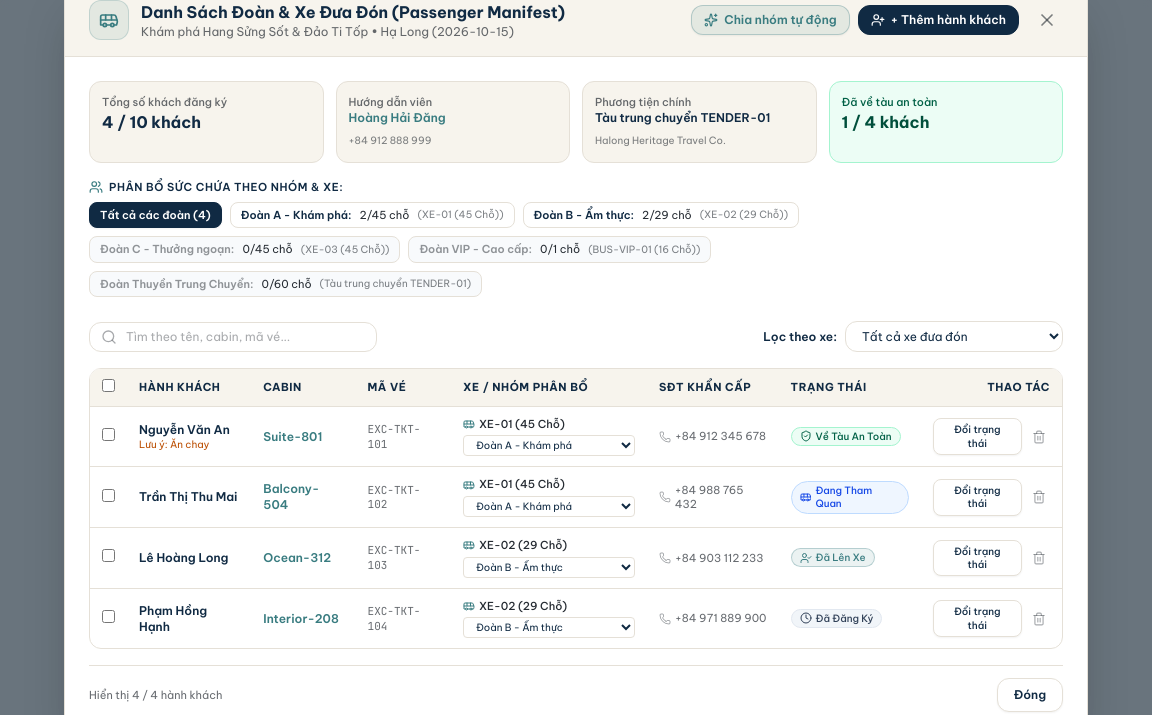
Test case: ExcursionGroupAssignment Tests (KAN-181) › Test Group Capacity and Assignment Errors (KAN-184) › rejects bulk assignment when selected passengers exceed available seats in target group
This screenshot has width=1152, height=715.
# Select 2 passengers
Click the checkbox named "Chọn Nguyễn Văn An": [108, 435] box [102,428,115,441]
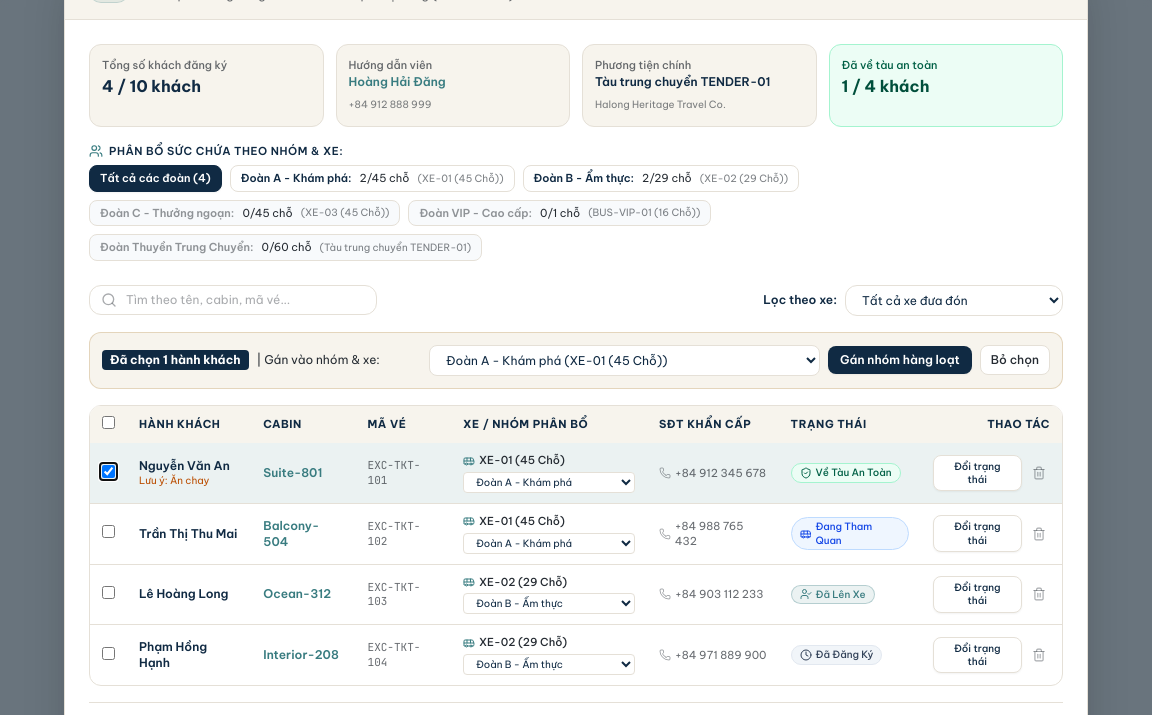
Click the checkbox named "Chọn Trần Thị Thu Mai": [108, 532] box [102,525,115,538]
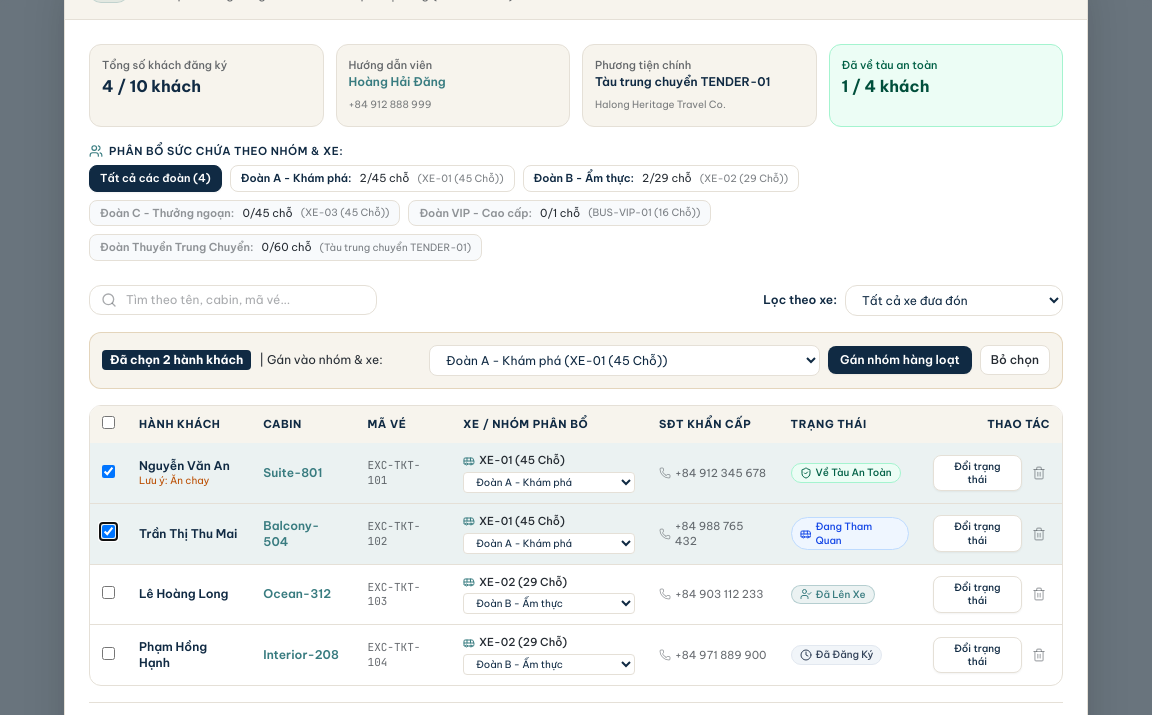
# Select GRP-VIP which has max 1 seat
Select "Đoàn VIP - Cao cấp (BUS-VIP-01 (16 Chỗ))" in the dropdown named "Chọn đoàn gán hàng loạt": [625, 360] box [429,345,820,376]
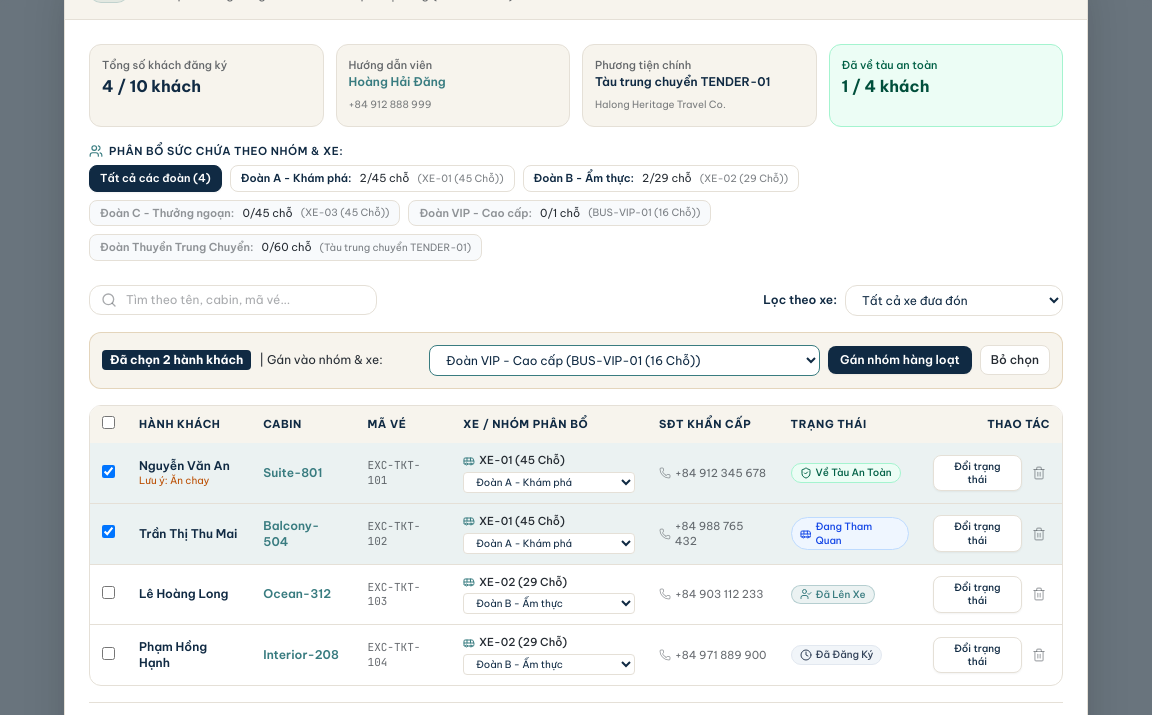
Click the button "Gán nhóm hàng loạt": [900, 360] box [828,346,972,374]
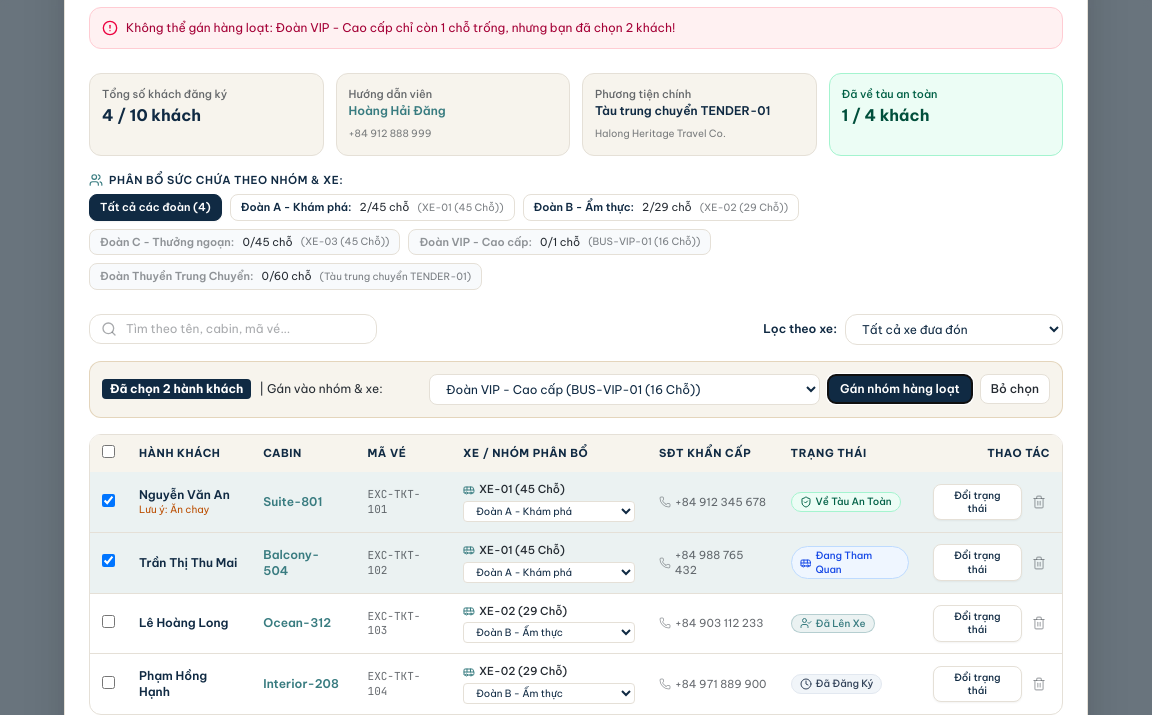
expect the text "Không thể gán hàng loạt: Đoàn VIP - Cao cấp chỉ còn 1 chỗ trống, nhưng bạn đã chọn 2 khách!" is shown: met, box [126,20,675,35]
